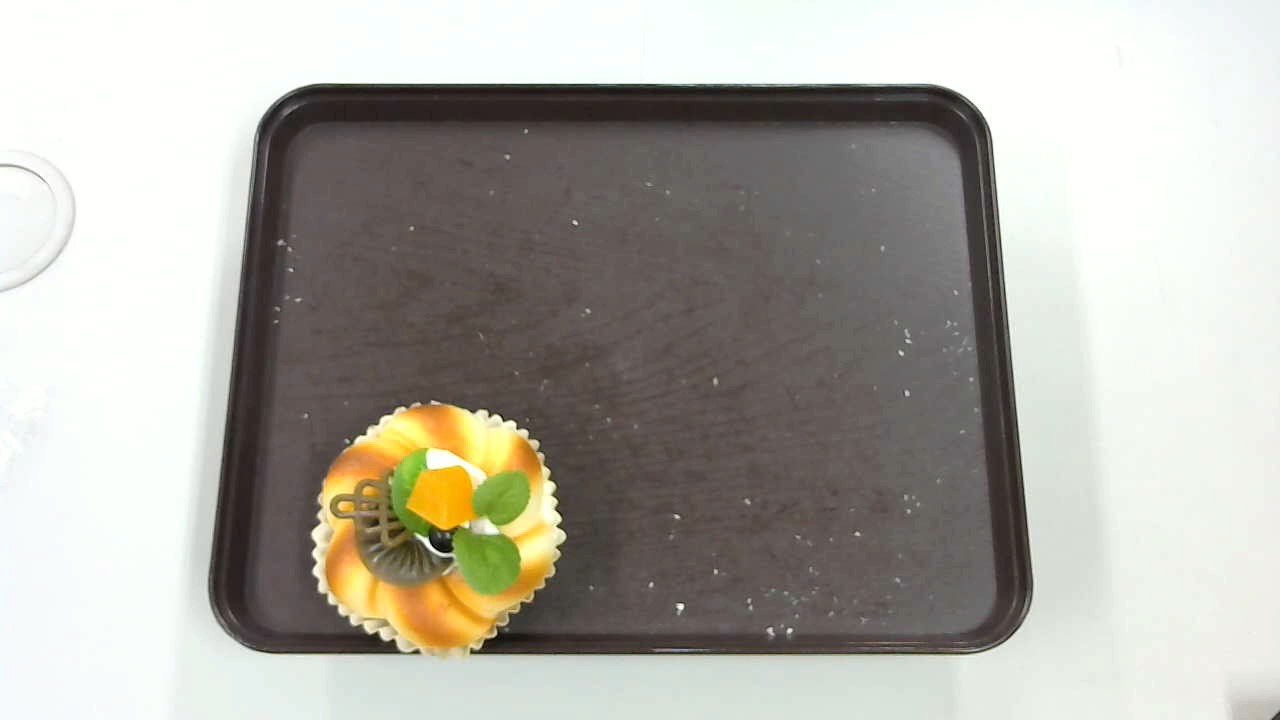fruit tart: (309, 398, 568, 664)
